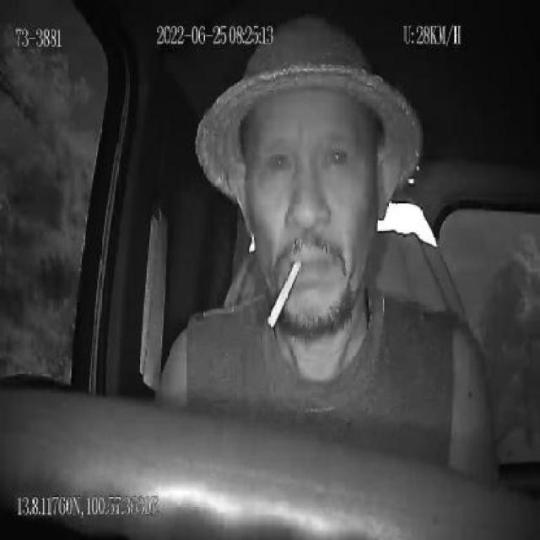smoking: (270, 258, 302, 340)
